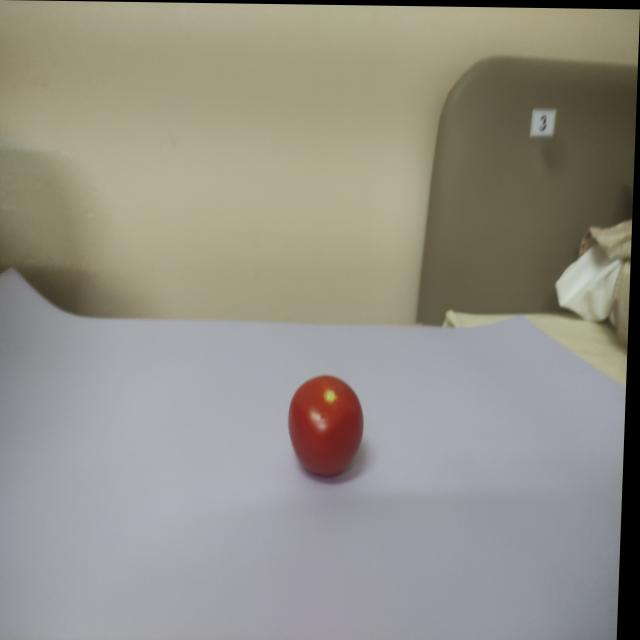kirmizi: (280, 353, 376, 483)
